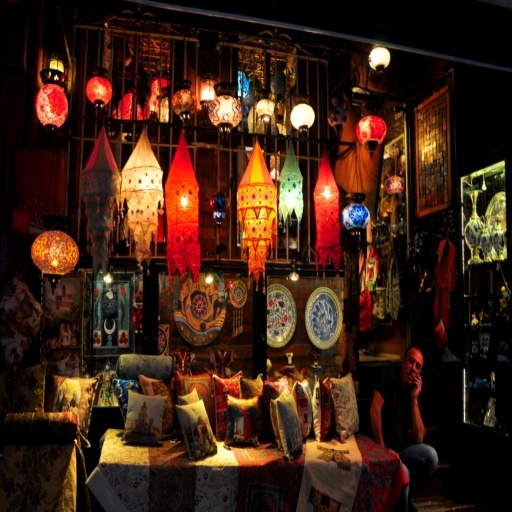hand: (410, 374, 422, 398)
